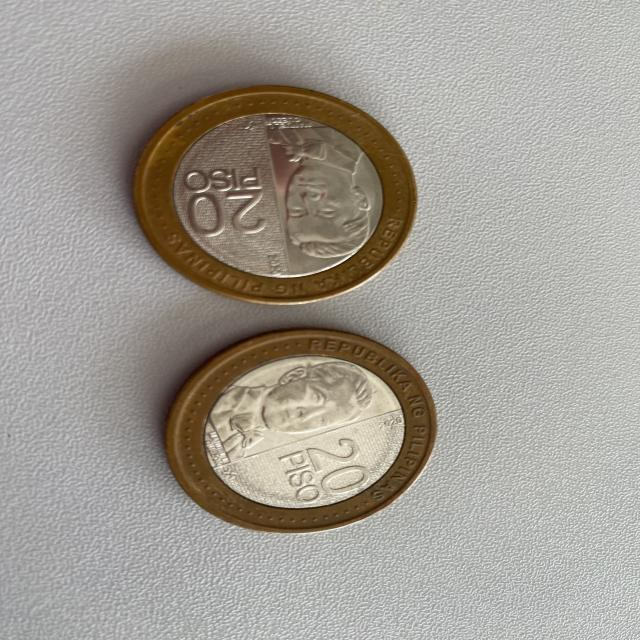20_New_Front: (185, 192, 276, 237), (308, 436, 368, 489)
